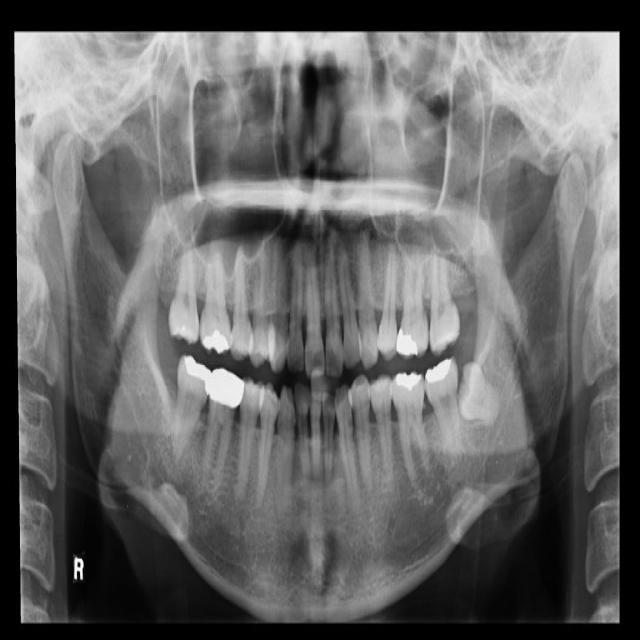52: (163, 349, 226, 411), (415, 355, 472, 410), (202, 364, 250, 414), (396, 305, 433, 361), (389, 371, 428, 419), (198, 306, 234, 355), (168, 293, 200, 344)
73: (584, 563, 592, 578)
BioHorizons Implant: (428, 249, 464, 358)
Biomet 3i Implant: (455, 361, 506, 424)
Blue Sky Bio Implant: (423, 356, 462, 455)
Caries: (162, 234, 201, 347)
Implant: (170, 353, 213, 468)
